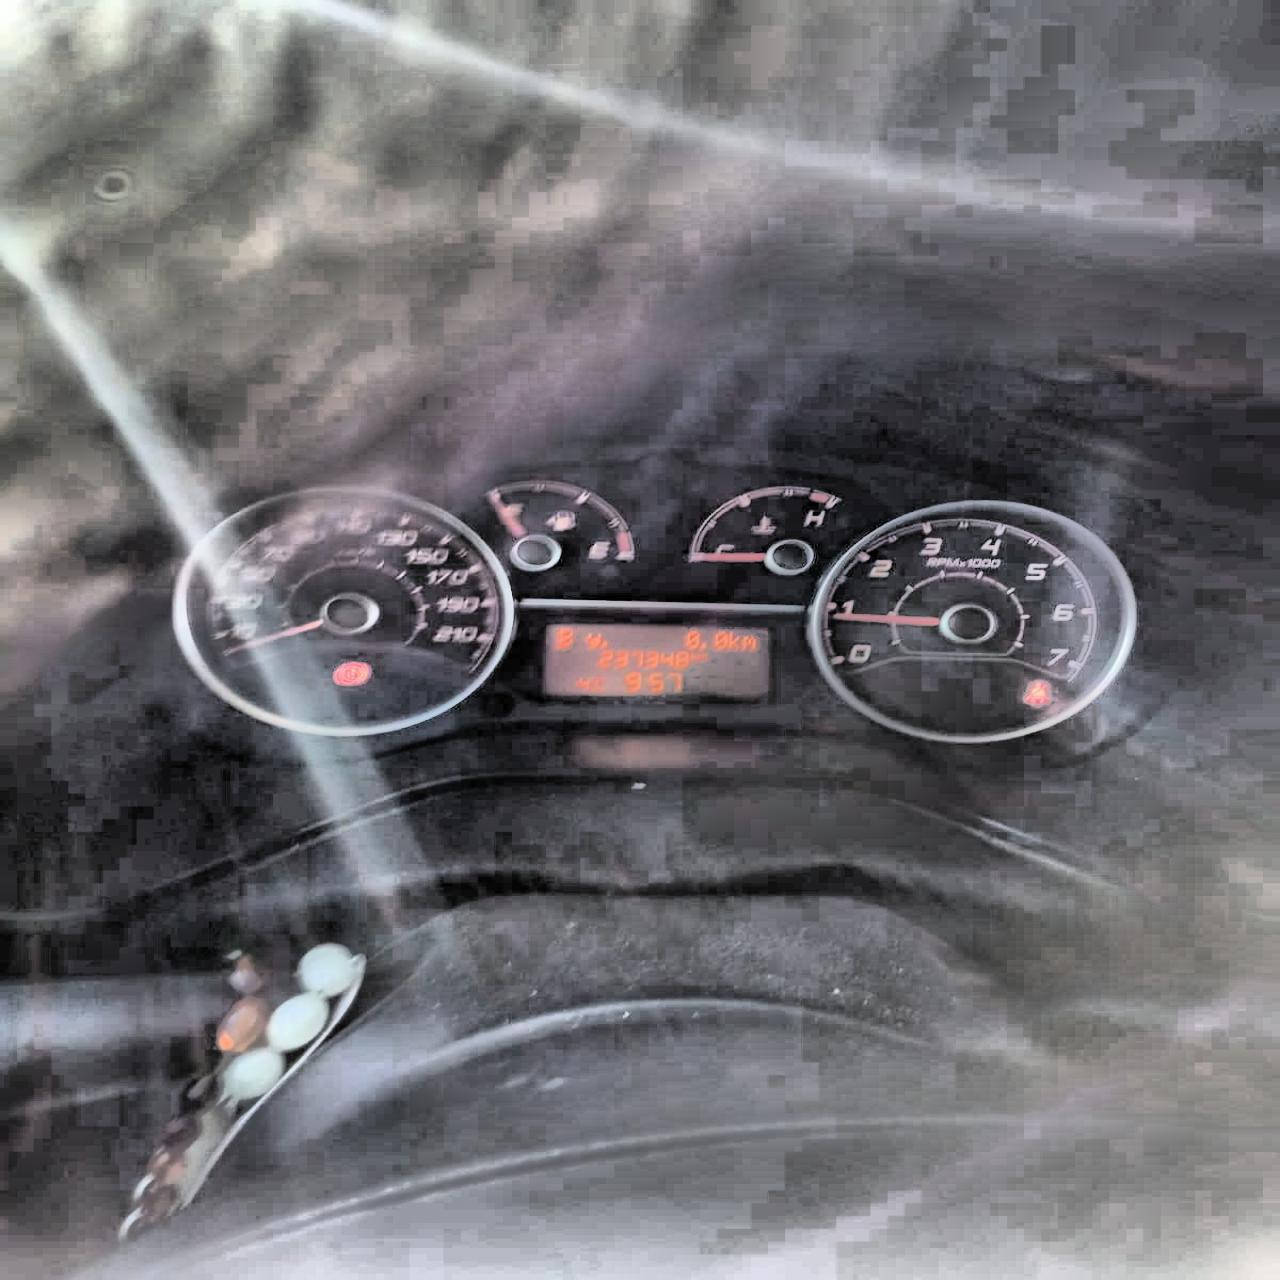-: (699, 640, 707, 649), (599, 639, 607, 647)
0: (682, 629, 699, 649), (714, 629, 729, 649)
2: (597, 649, 613, 668)
3: (613, 649, 628, 668), (644, 651, 658, 667)
4: (659, 652, 673, 667), (577, 676, 588, 692)
5: (647, 670, 663, 692)
7: (666, 670, 681, 692), (629, 649, 644, 667)
8: (673, 651, 688, 667)
9: (622, 670, 641, 692)
X: (554, 626, 572, 647), (586, 632, 600, 648), (741, 635, 756, 648), (594, 676, 607, 692), (729, 632, 741, 648), (696, 652, 707, 659), (689, 652, 696, 660)
odometer: (539, 621, 771, 700)
